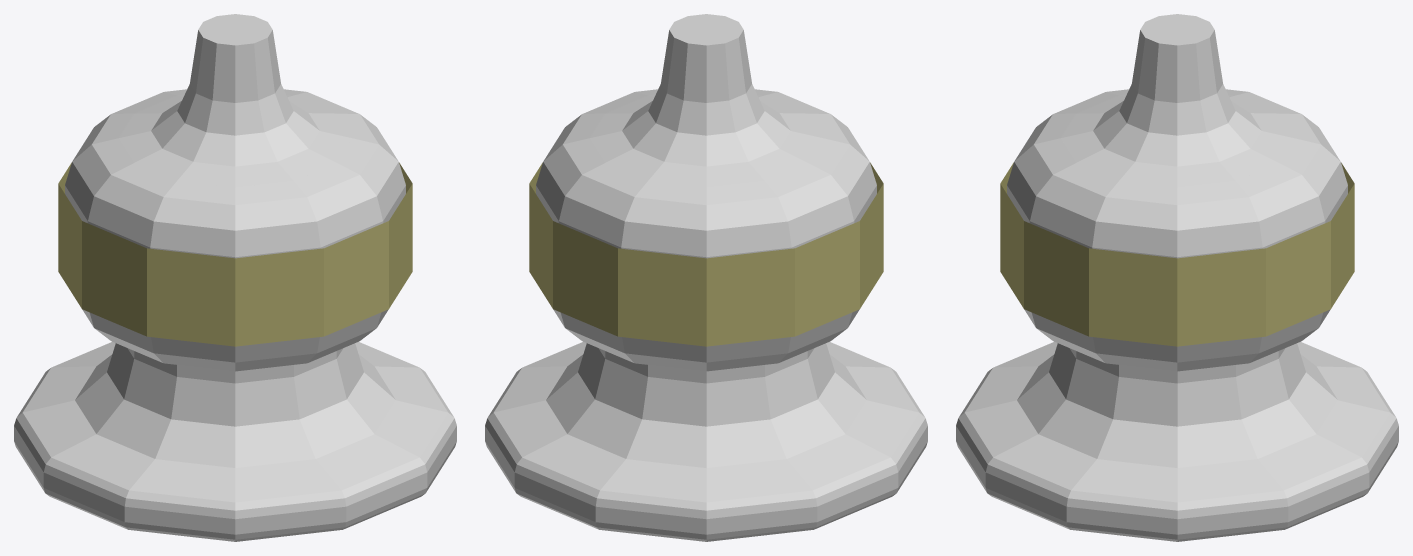
File: Botella_Licor2.fbx
The picture shows the model from 3 angles, left to right: view 1: azimuth 30°, elevation 25°; view 2: azimuth 150°, elevation 25°; view 3: azimuth 270°, elevation 25°; orthographic projection.
Parts seen in each view (by area): view 1: Botella; view 2: Botella; view 3: Botella.
Part boxes in pixels (box(x1,y1,x2,y2)): Botella: box(14, 14, 456, 541); Botella: box(485, 14, 927, 541); Botella: box(956, 14, 1398, 541).
Bounding box in the file's own units: 36.15 × 38.09 × 36.15.
